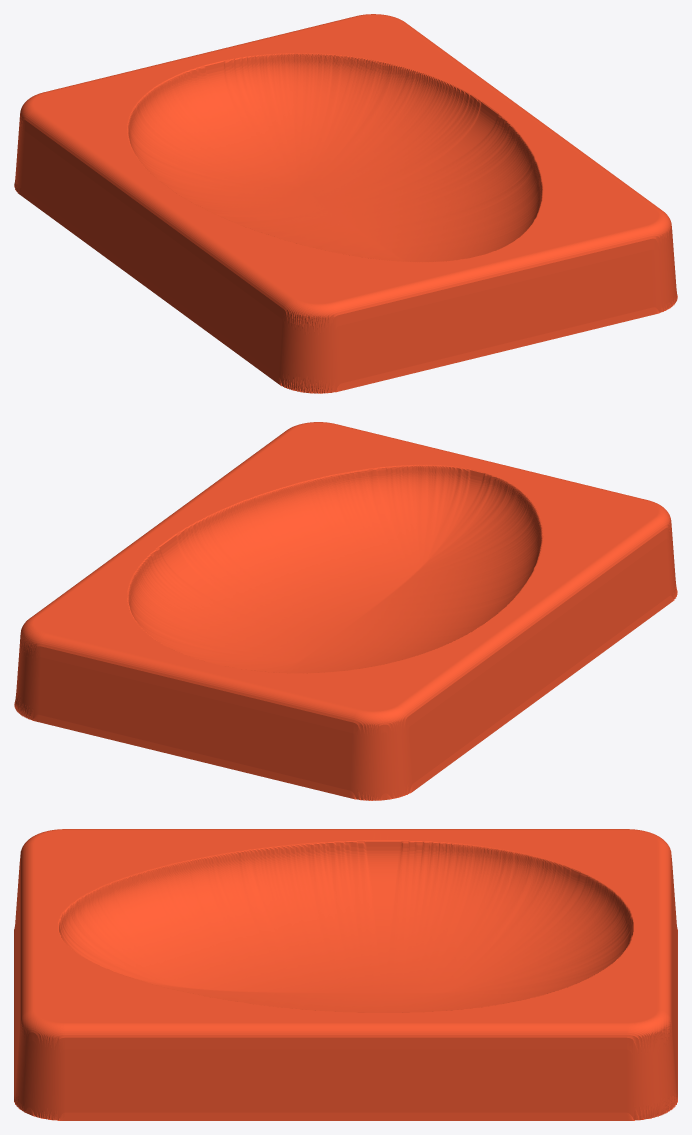
The model's file is mold.glb.
The picture shows the model from 3 angles, top to bottom: view 1: azimuth 30°, elevation 25°; view 2: azimuth 150°, elevation 25°; view 3: azimuth 270°, elevation 25°; orthographic projection. The views are drawn at different scales.
Visible parts, largest first — view 1: geometry_0; view 2: geometry_0; view 3: geometry_0.
Boxes of the visible parts, box(x1,y1,x2,y2) form: geometry_0: box(14, 14, 677, 393); geometry_0: box(14, 422, 677, 800); geometry_0: box(14, 829, 677, 1120).
Size of the model in its own units: 0.088 by 0.0175 by 0.1178.
